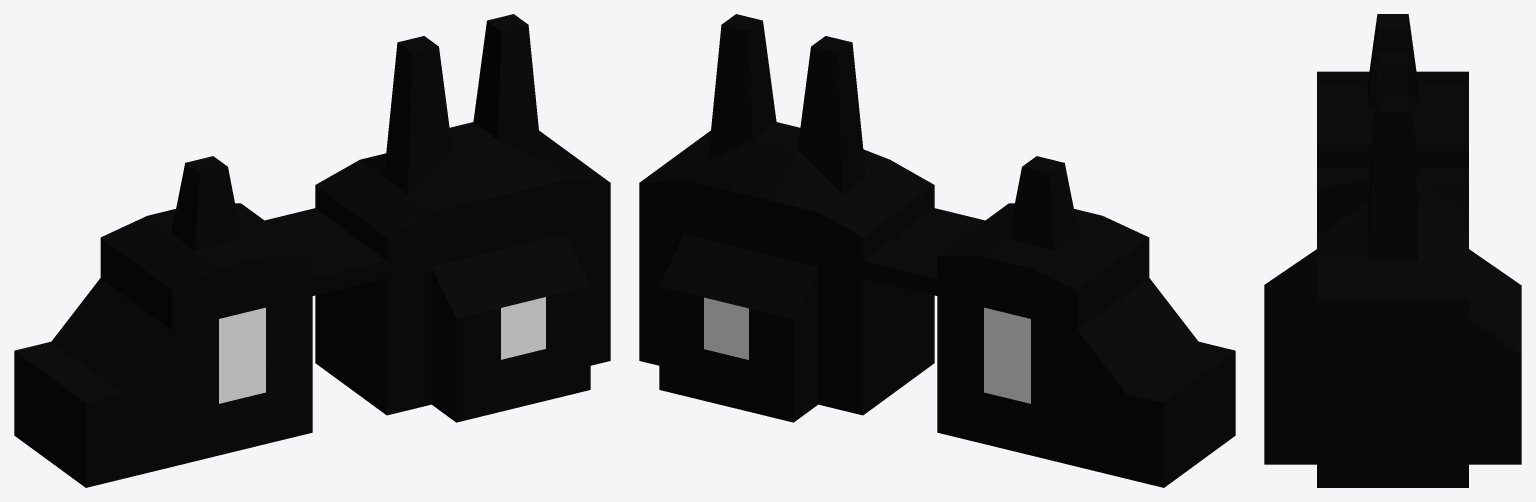
Rendered from factory.fbx.
3 renders of one model, left to right at view 1: azimuth 30°, elevation 25°; view 2: azimuth 150°, elevation 25°; view 3: azimuth 270°, elevation 25°, orthographic. The views are drawn at different scales.
Visible parts, largest first — view 1: FactoryBuilding; view 2: FactoryBuilding; view 3: FactoryBuilding.
Part boxes in pixels (x1,y1,x2,y2): FactoryBuilding: [14, 14, 610, 487]; FactoryBuilding: [639, 14, 1235, 487]; FactoryBuilding: [1264, 14, 1521, 487].
Bounding box in the file's own units: 845 × 505 × 338.
